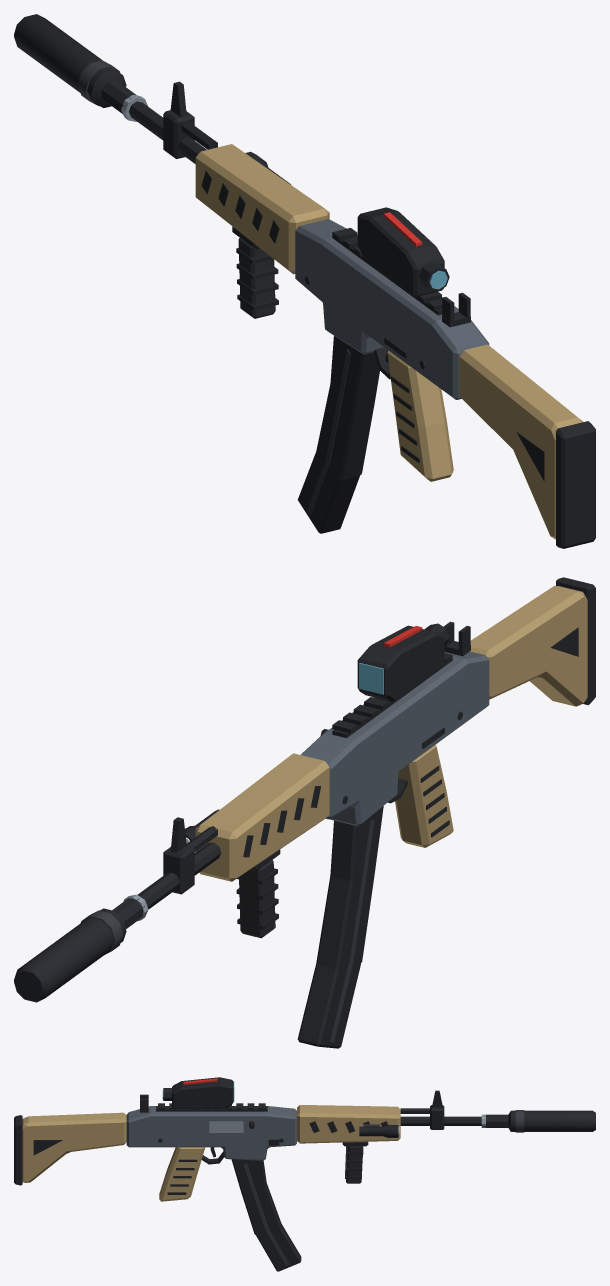
The model's file is assault_rifle.glb.
3 views of the same model, one above another, from view 1: azimuth 30°, elevation 25°; view 2: azimuth 150°, elevation 25°; view 3: azimuth 270°, elevation 25° (orthographic). The views are drawn at different scales.
Parts seen in each view (by area): view 1: Body, Att_ExtMag, Att_Scope, Att_Suppressor, Att_Grip, Mag; view 2: Body, Att_ExtMag, Att_Scope, Att_Suppressor, Att_Grip, Mag; view 3: Body, Att_ExtMag, Att_Scope, Att_Suppressor, Mag, Att_Grip, Att_Flashlight.
Part boxes in pixels (x1=…): Body: x1=101, y1=80, x2=595, y2=548; Att_ExtMag: x1=297, y1=336, x2=379, y2=533; Att_Scope: x1=357, y1=207, x2=449, y2=296; Att_Suppressor: x1=14, y1=14, x2=126, y2=107; Att_Grip: x1=232, y1=226, x2=278, y2=318; Mag: x1=325, y1=352, x2=379, y2=479; Body: x1=112, y1=577, x2=595, y2=928; Att_ExtMag: x1=297, y1=806, x2=383, y2=1048; Att_Scope: x1=357, y1=623, x2=449, y2=701; Att_Suppressor: x1=14, y1=908, x2=126, y2=1002; Att_Grip: x1=236, y1=849, x2=280, y2=938; Mag: x1=349, y1=806, x2=383, y2=962; Body: x1=14, y1=1090, x2=508, y2=1201; Att_ExtMag: x1=231, y1=1159, x2=301, y2=1271; Att_Scope: x1=162, y1=1077, x2=234, y2=1108; Att_Suppressor: x1=508, y1=1110, x2=595, y2=1132; Mag: x1=232, y1=1159, x2=277, y2=1234; Att_Grip: x1=342, y1=1141, x2=368, y2=1183; Att_Flashlight: x1=359, y1=1124, x2=399, y2=1137.
Size of the model in its own units: 0.0731 by 0.3945 by 1.09.
